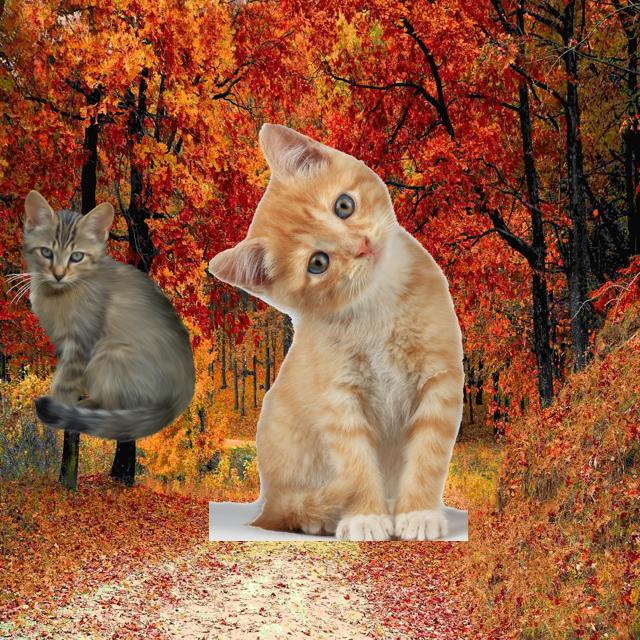cat: (211, 107, 466, 539), (6, 190, 201, 443)
